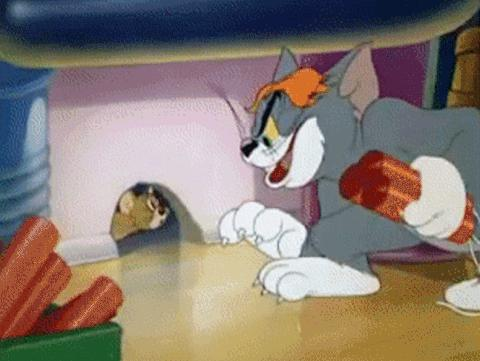tom: (217, 42, 480, 322)
